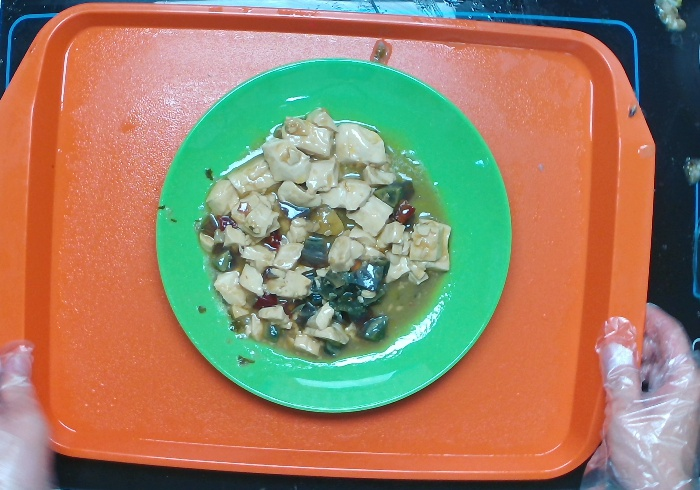HZYJPL-Lv_Se_Yuan_Pan: (152, 51, 524, 427)
